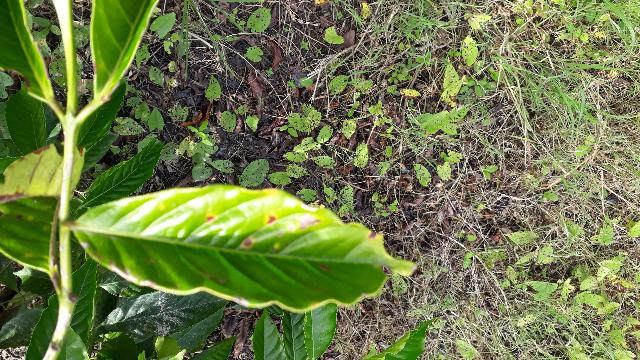rust_level_1: (225, 45, 570, 176)
